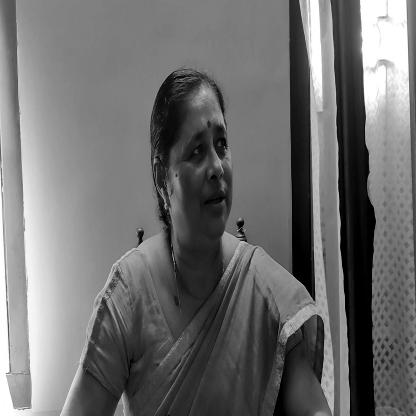Distracted: (159, 81, 236, 245)
